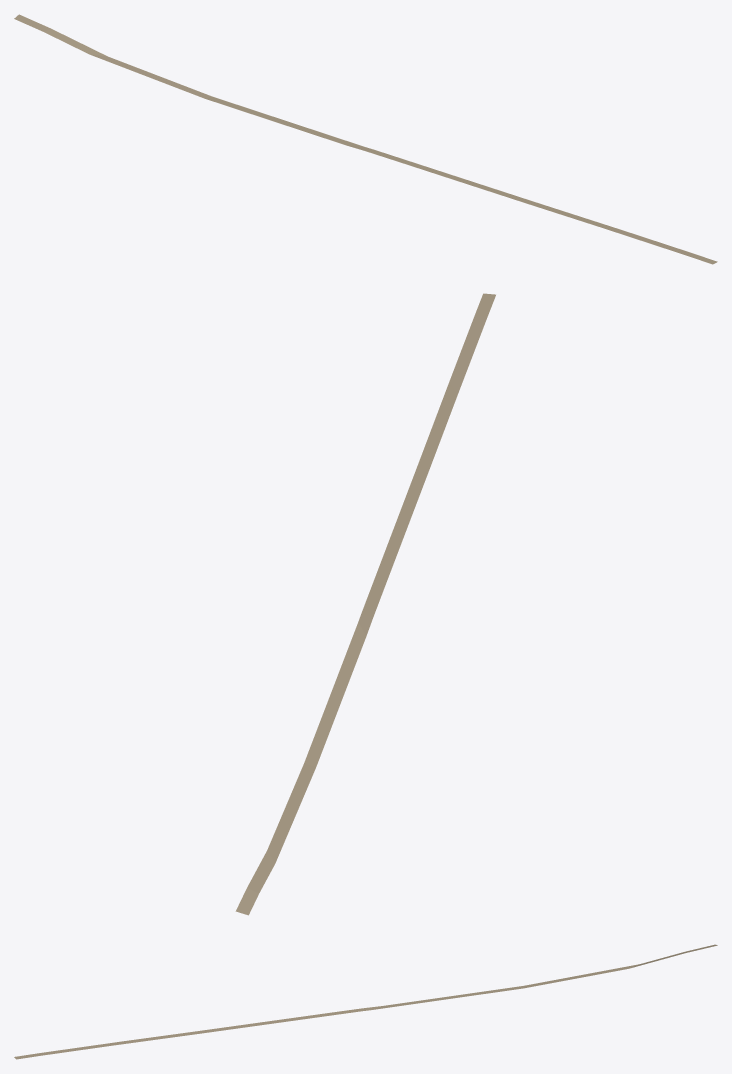
File: farm_-6_16_track.glb
3 renders of one model, top to bottom at view 1: azimuth 30°, elevation 25°; view 2: azimuth 150°, elevation 25°; view 3: azimuth 270°, elevation 25°, orthographic. The views are drawn at different scales.
Visible parts, largest first — view 1: geometry_0; view 2: geometry_0; view 3: geometry_0.
Part boxes in pixels (x1,y1,x2,y2): geometry_0: [14, 14, 717, 264]; geometry_0: [235, 293, 495, 915]; geometry_0: [14, 944, 717, 1059].
Bounding box in the file's own units: 133 × 6.88 × 348.
